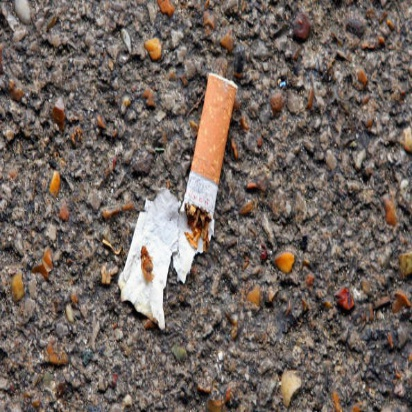cigarette: (189, 68, 241, 250)
